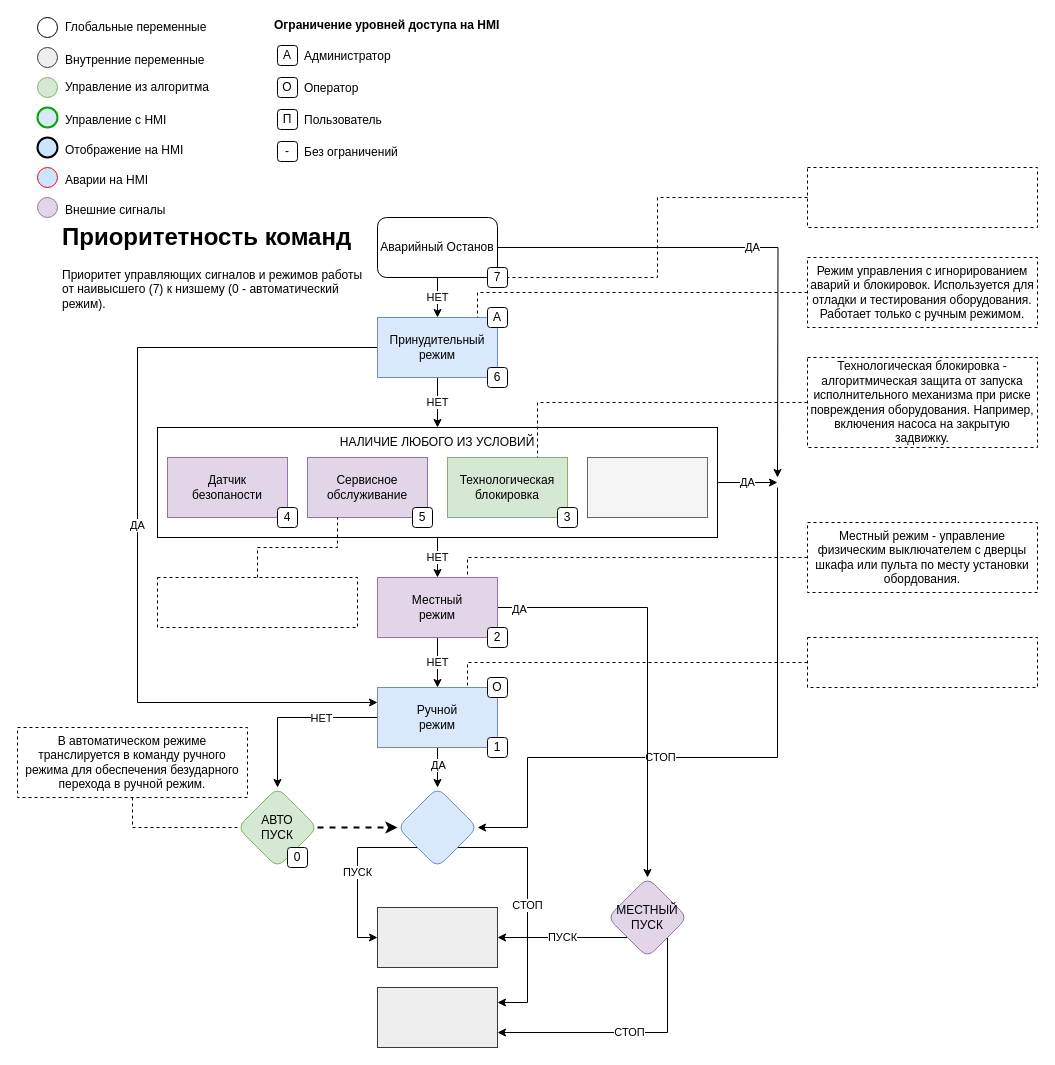
Image size: 1055x1065. Some labels were removed from this diagram. The shapes that lost their labels are listed below. From the top down, each one's centre as x and y in pixels, then its label:
At (922,197): "Цифровой код режима работы. Используется при построении иерархии команд в коде.".
At (647,487): "Неисправность оборудования".
At (257,602): "Сервисный выключатель по месту установки оборудования.".
At (922,662): "Ручной режим - управление по команде оператора с HMI.".
At (437,827): "РУЧНОЙ ПУСК".
At (437,937): "ЗАПУСК".
At (437,1017): "ОСТАНОВ".
